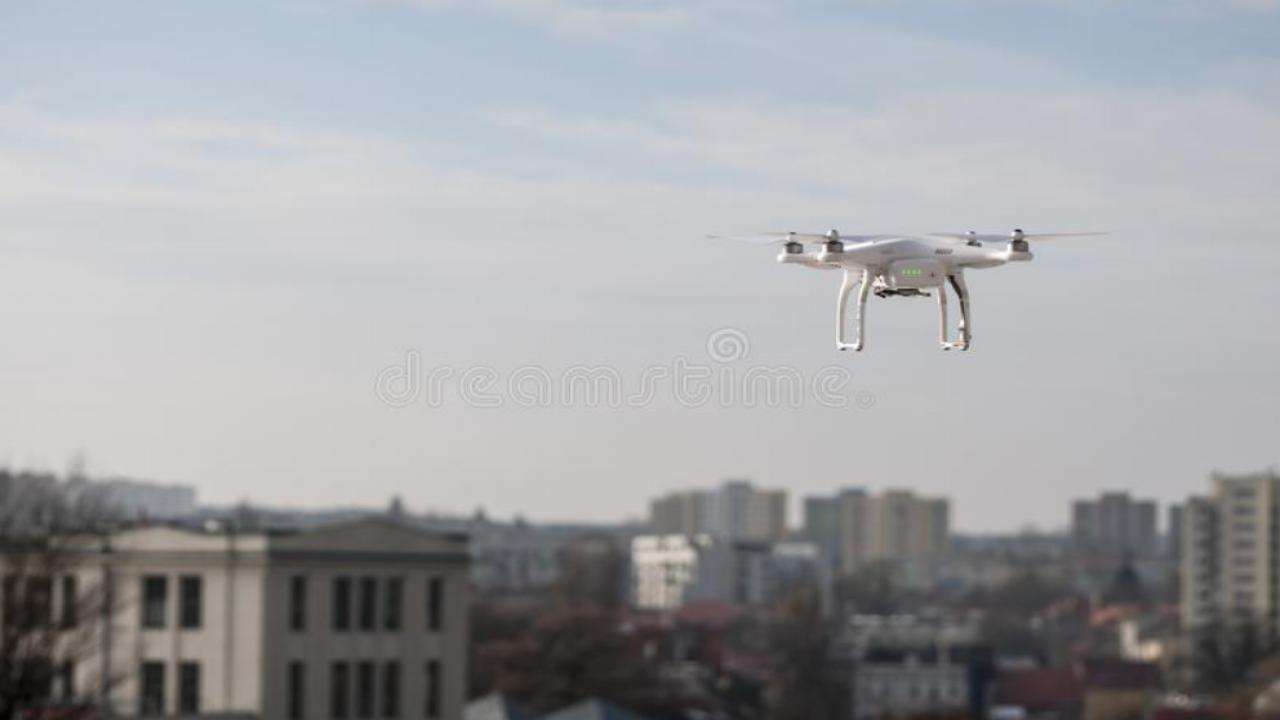Drone: (685, 200, 1129, 370)
